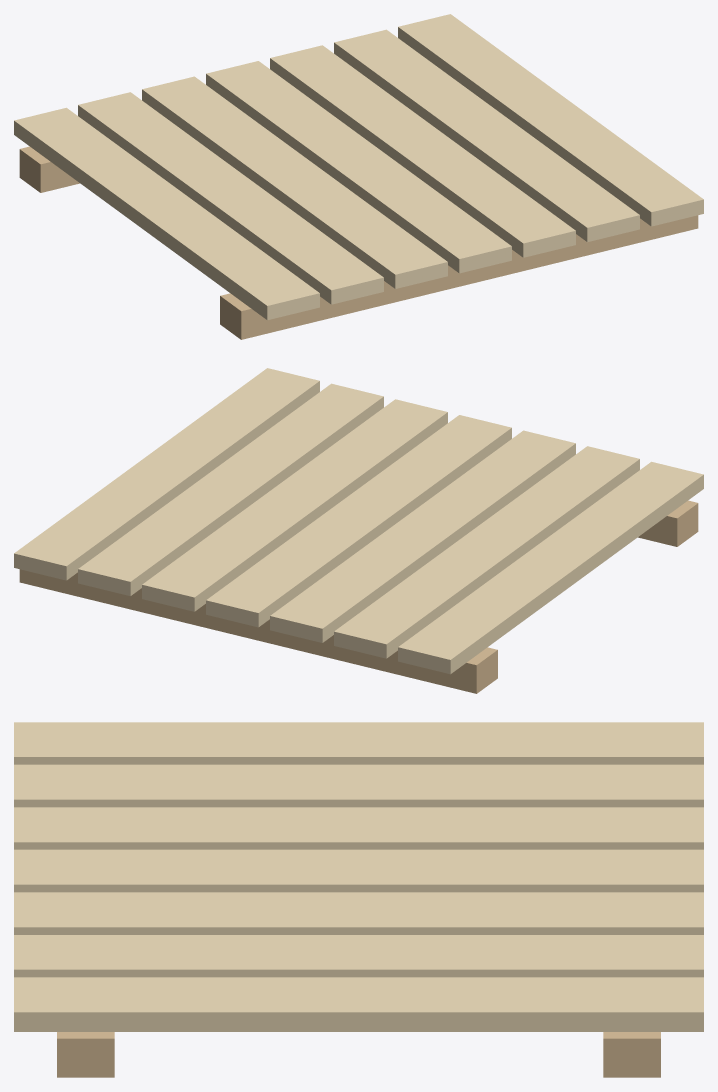
The model's file is overlay_bridge_deck.glb.
3 renders of one model, top to bottom at view 1: azimuth 30°, elevation 25°; view 2: azimuth 150°, elevation 25°; view 3: azimuth 270°, elevation 25°, orthographic. The views are drawn at different scales.
Parts seen in each view (by area): view 1: overlay_bridge_deck; view 2: overlay_bridge_deck; view 3: overlay_bridge_deck.
Boxes of the visible parts, <box> form: overlay_bridge_deck: <box>14,14,703,339</box>; overlay_bridge_deck: <box>14,368,703,693</box>; overlay_bridge_deck: <box>14,722,703,1077</box>.
Bounding box in the file's own units: 1 × 0.09 × 0.96.
